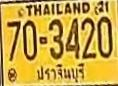0: (97, 16, 112, 57), (22, 20, 36, 60)
2: (81, 17, 94, 58)
3: (48, 19, 63, 58)
4: (65, 17, 79, 58)
7: (6, 20, 20, 60)
PRI: (36, 62, 88, 84)
